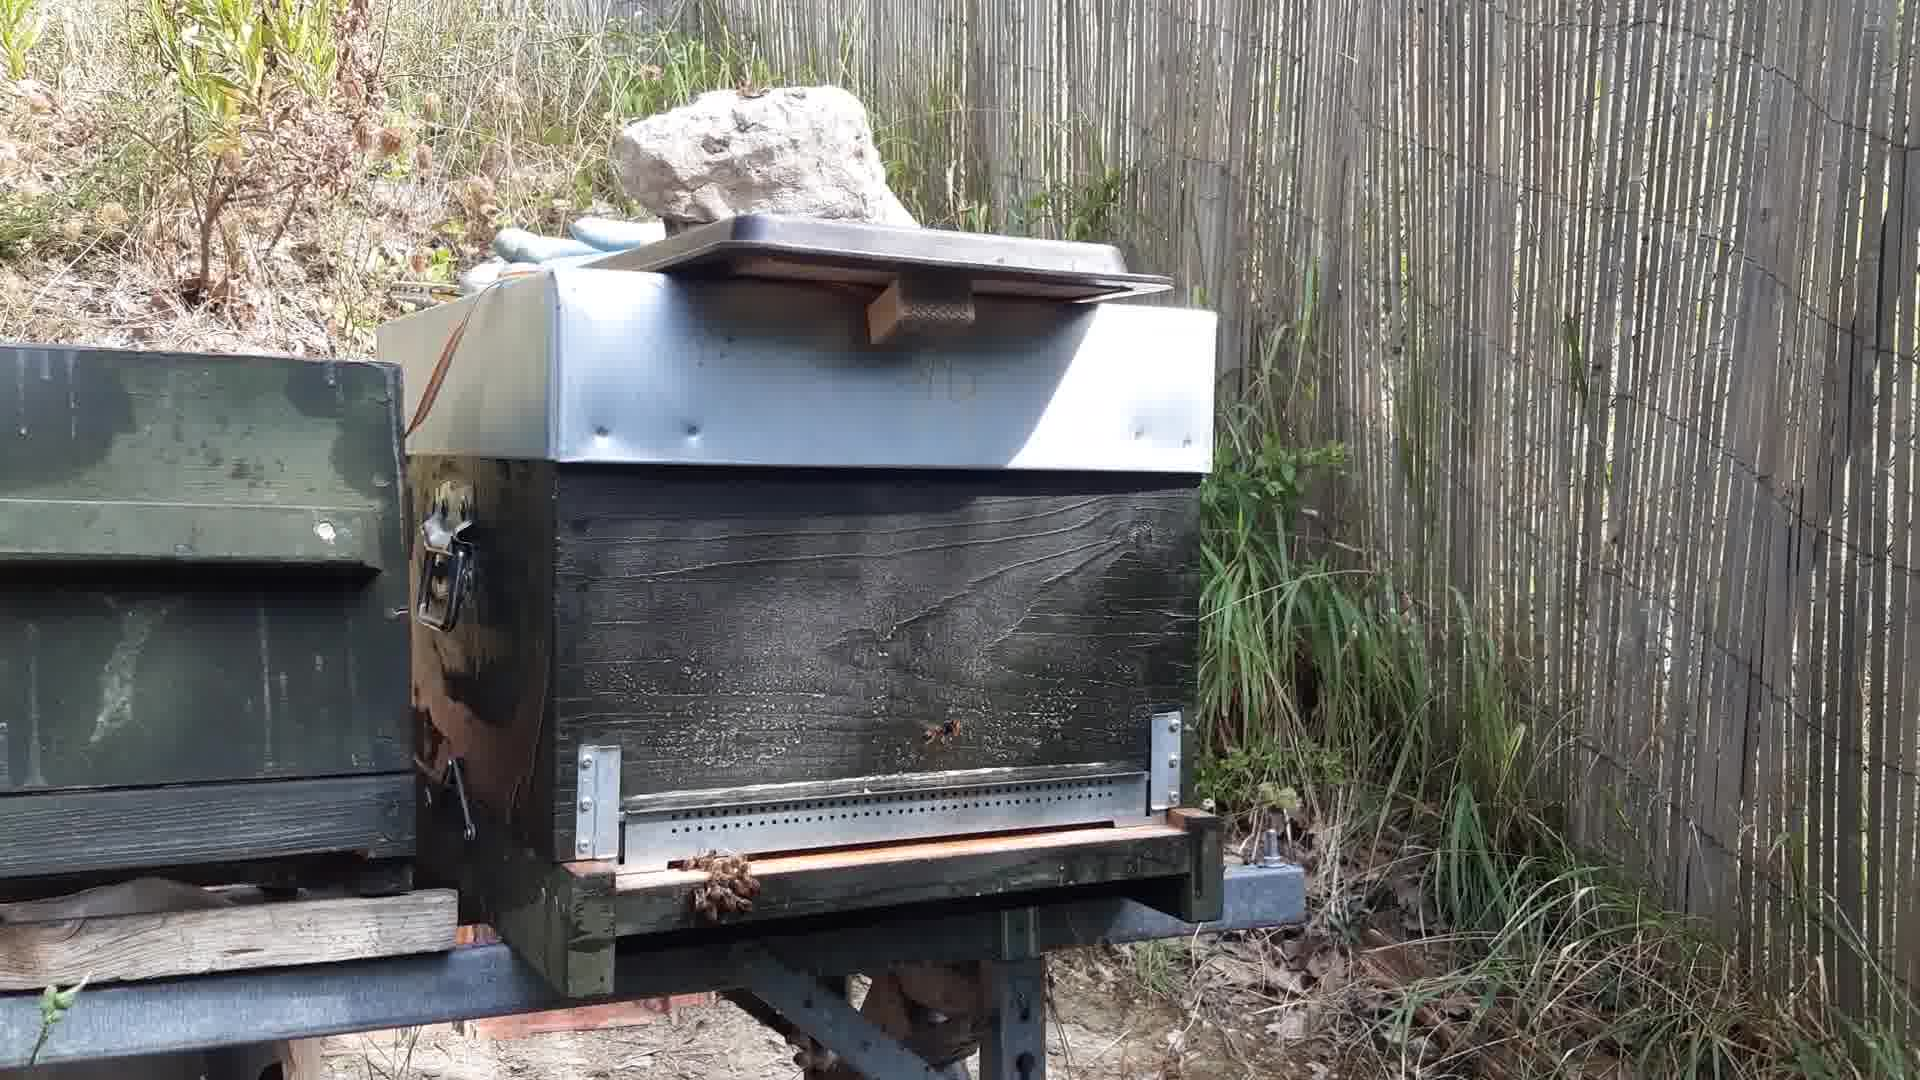bee: (684, 848, 767, 927)
hornet: (920, 717, 965, 749)
